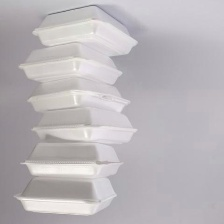foam_box: (29, 3, 141, 59), (14, 40, 127, 87), (9, 172, 121, 219), (27, 104, 141, 148), (23, 74, 133, 119), (16, 139, 129, 182)
